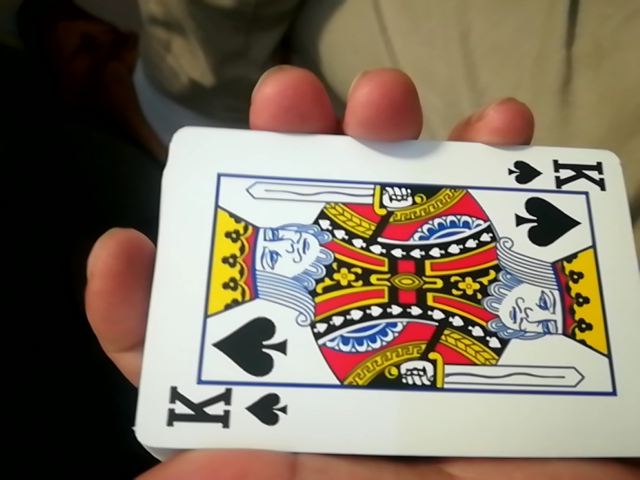ht k: (117, 120, 630, 472)
